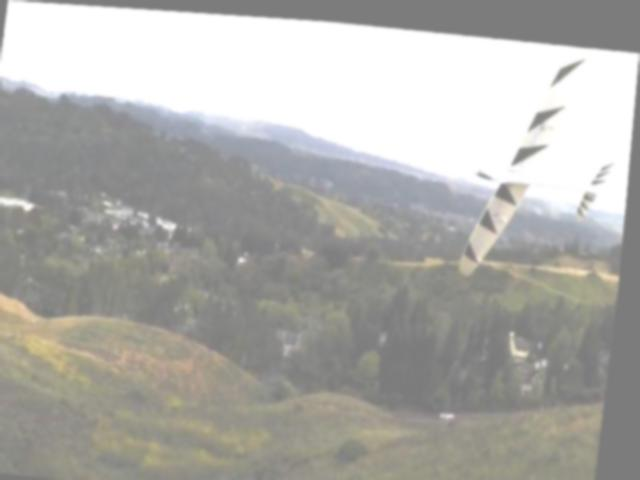iha: (458, 30, 637, 283)
